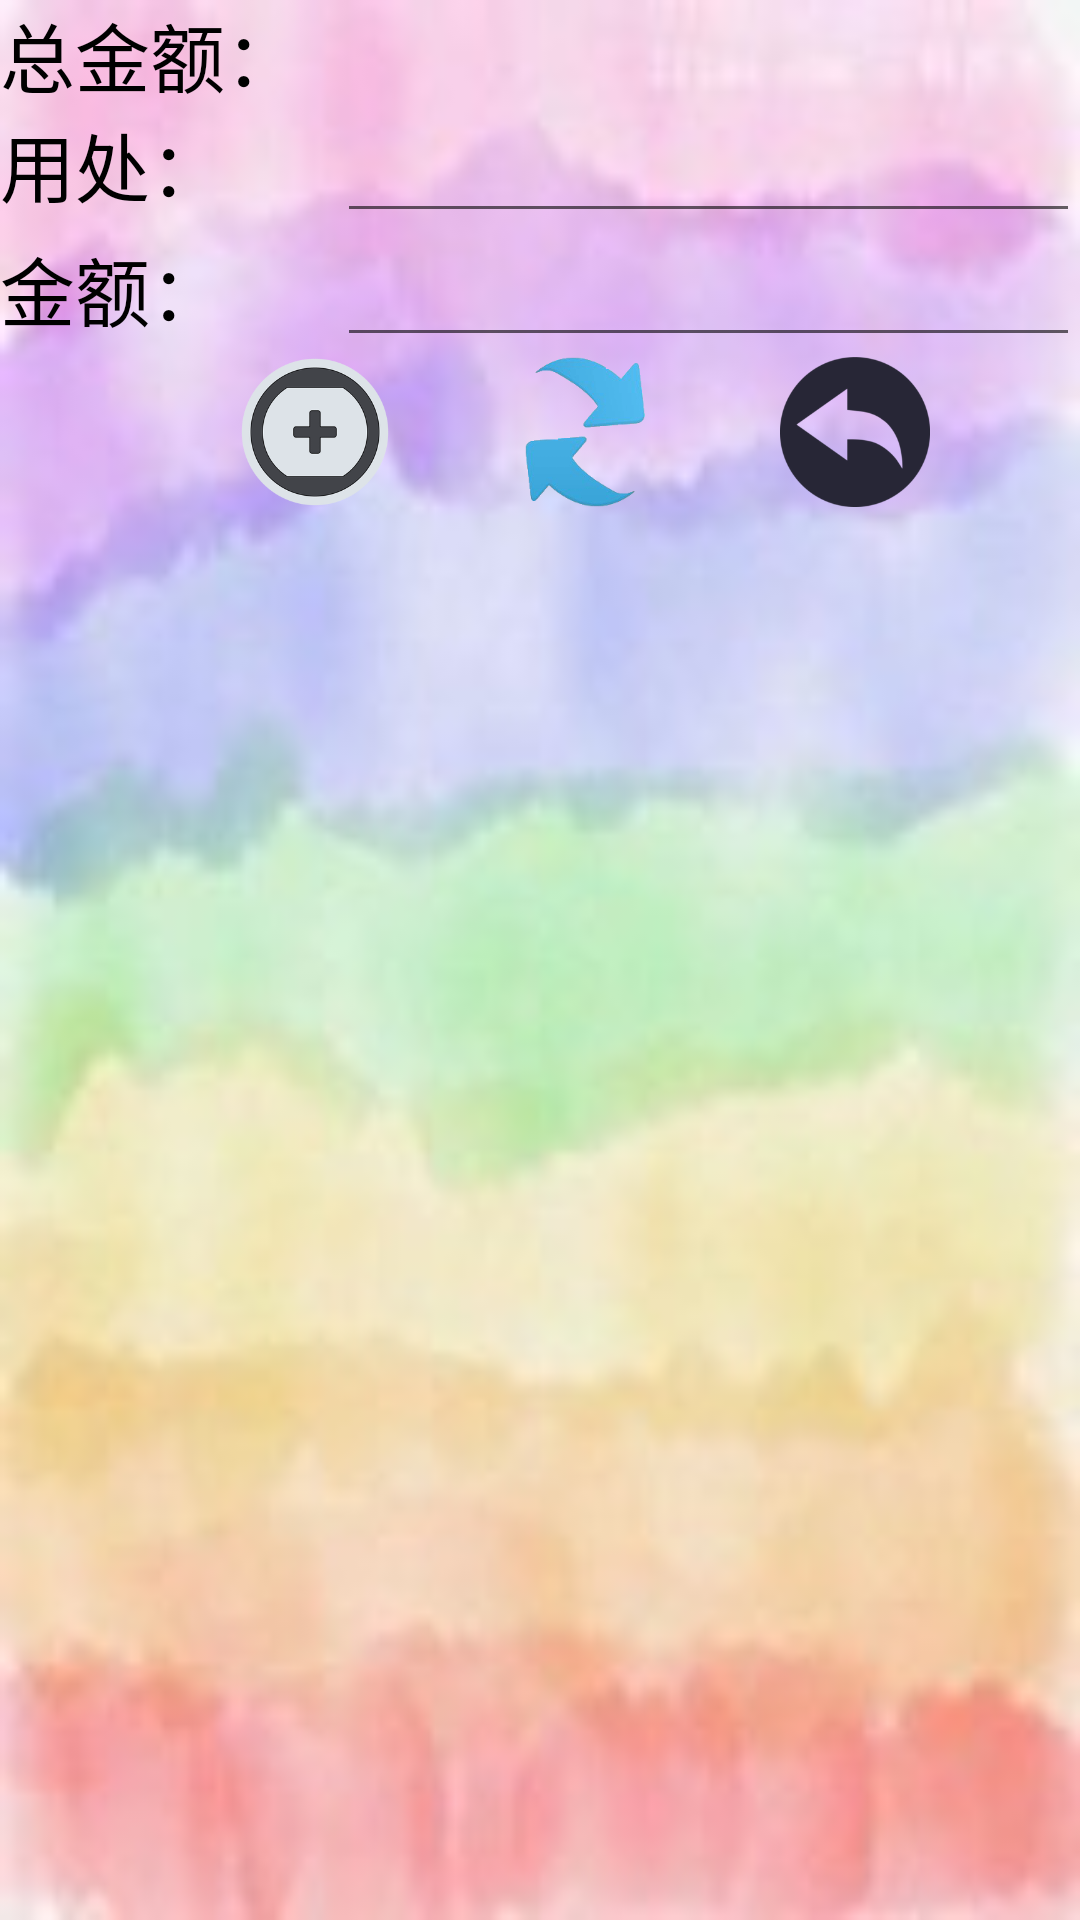

Point at icon controls on the screen. Image size 1080w x 1920h, points as (x=x, y=y).
add: (x=315, y=433)
exit: (x=855, y=432)
refresh: (x=585, y=432)
